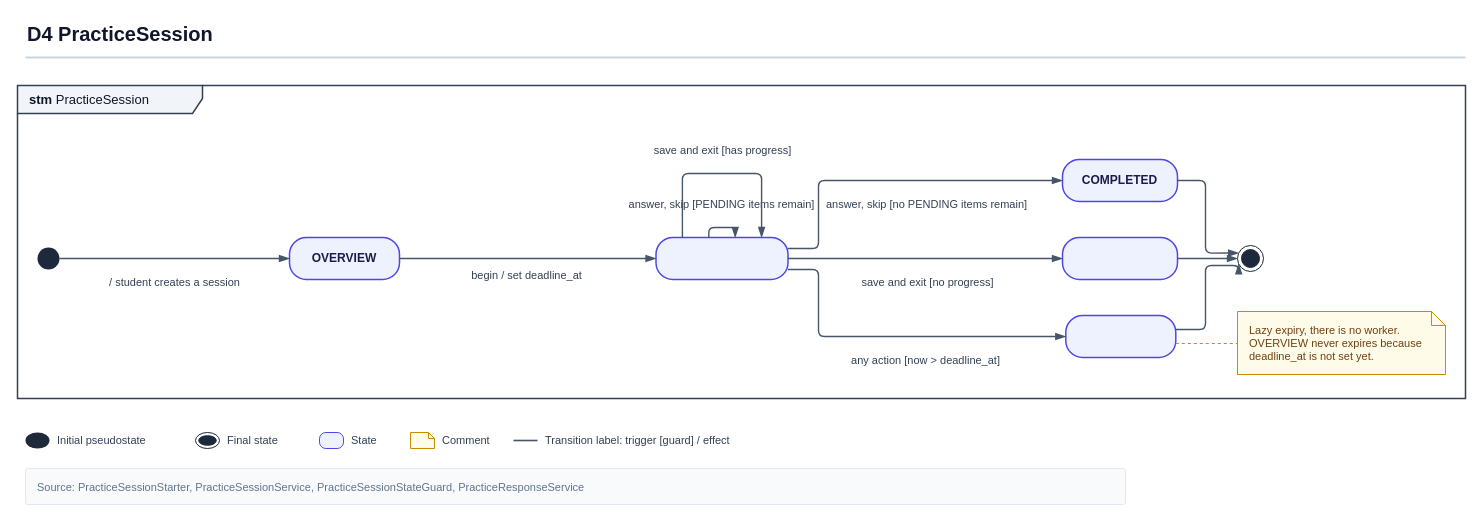
This 1484x522 diagram has some shape labels left out. Here are the shapes that lost their labels. From the top down, the centre of each, then its label:
(x=721, y=258): IN_PROGRESS
(x=1119, y=258): DISCARDED
(x=1120, y=336): EXPIRED
